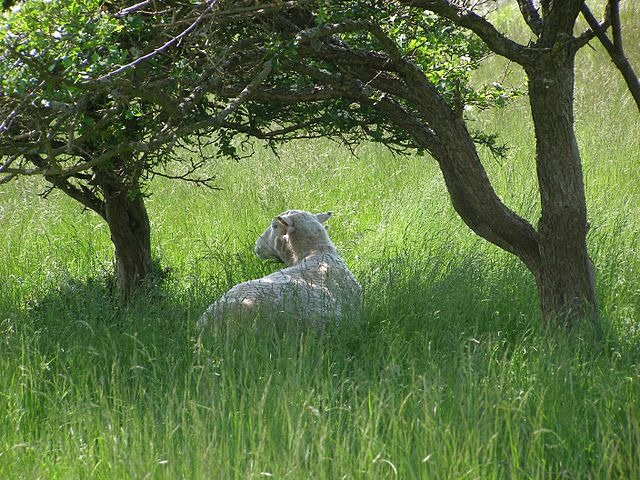resting: (188, 209, 364, 348)
